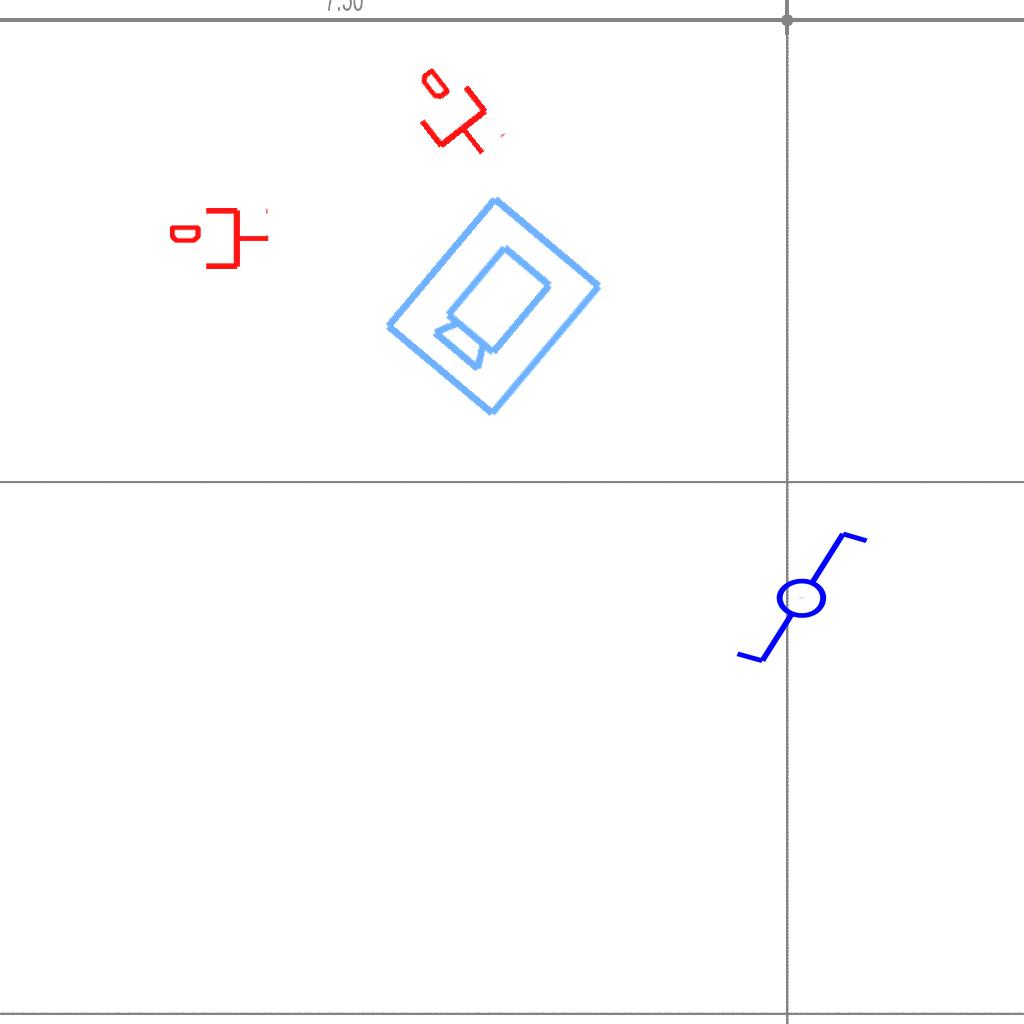Datenanschluss_einfach: (394, 54, 511, 176), (170, 204, 270, 273)
KFO_Kamera_mit_Festobjektiv: (375, 185, 611, 425)
Wechselschalter: (715, 524, 872, 668)
